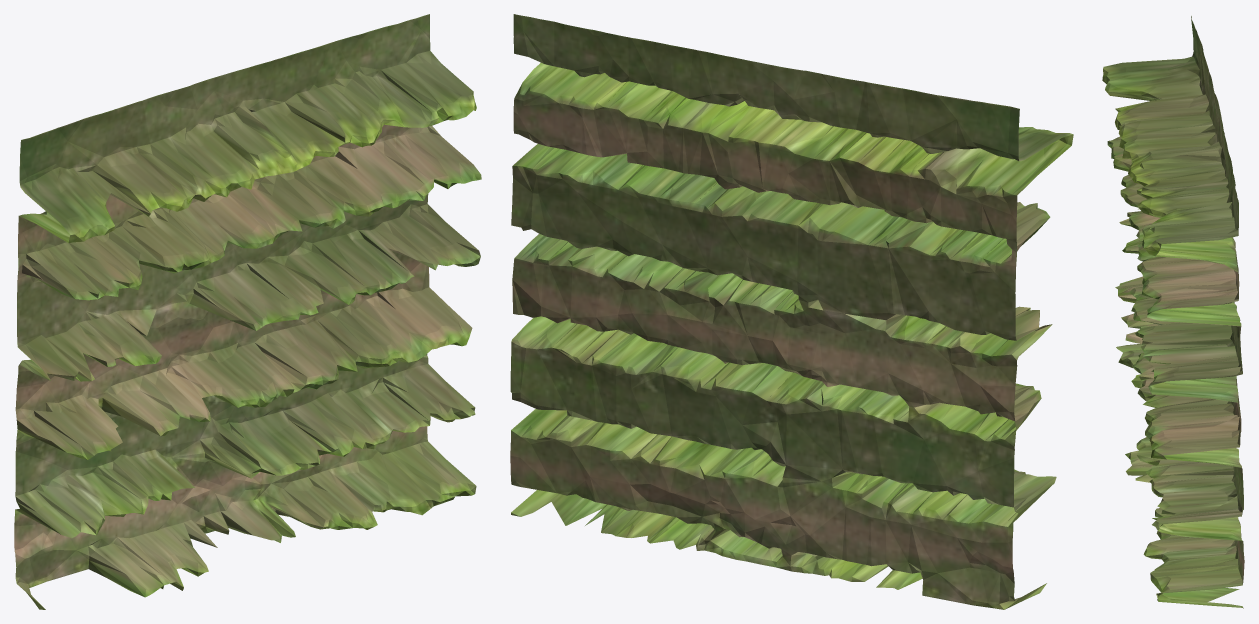
File: map_210_60.obj
The picture shows the model from 3 angles, left to right: view 1: azimuth 30°, elevation 25°; view 2: azimuth 150°, elevation 25°; view 3: azimuth 270°, elevation 25°; orthographic projection. The views are drawn at different scales.
Visible parts, largest first — view 1: grp1; view 2: grp1; view 3: grp1.
Part boxes in pixels (x1=…): grp1: x1=14, y1=14, x2=481, y2=609; grp1: x1=510, y1=14, x2=1073, y2=609; grp1: x1=1102, y1=16, x2=1244, y2=608.
Size of the model in its own units: 10 by 10 by 3.17.
1 material, 1 textured.
